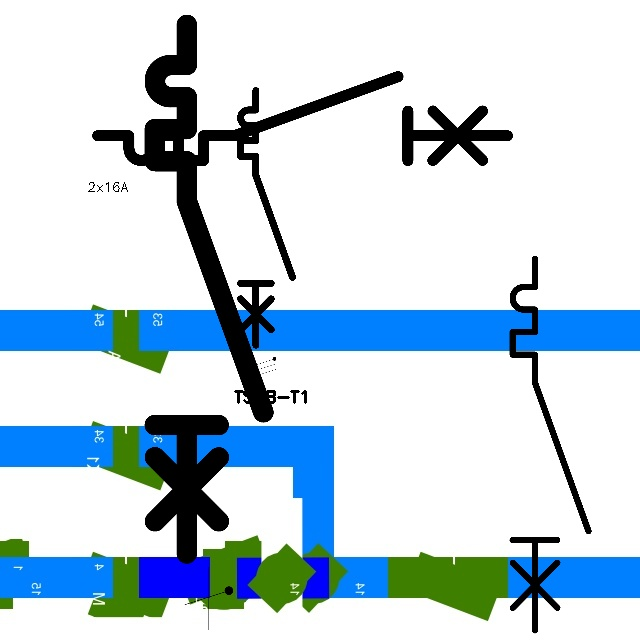interruptor_termomagnetico: (141, 11, 277, 567), (87, 66, 518, 171), (503, 249, 598, 640), (234, 84, 299, 352)
